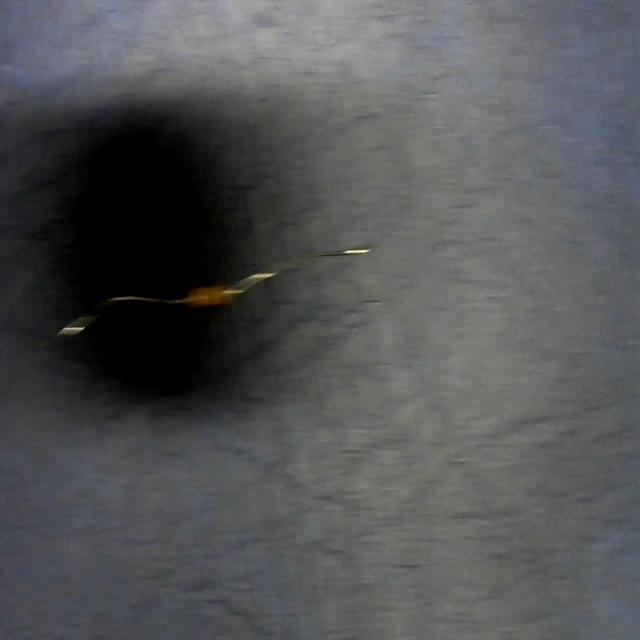resistor: (74, 249, 364, 310)
